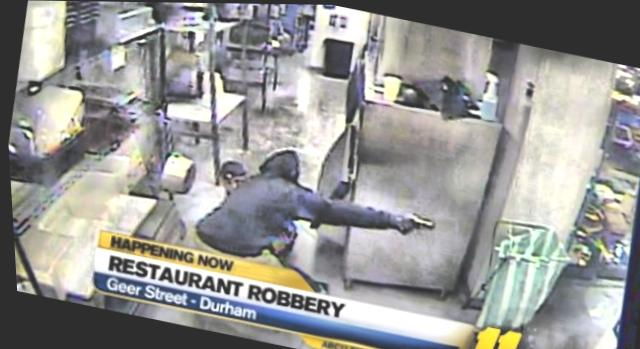pistol: (387, 203, 441, 252)
